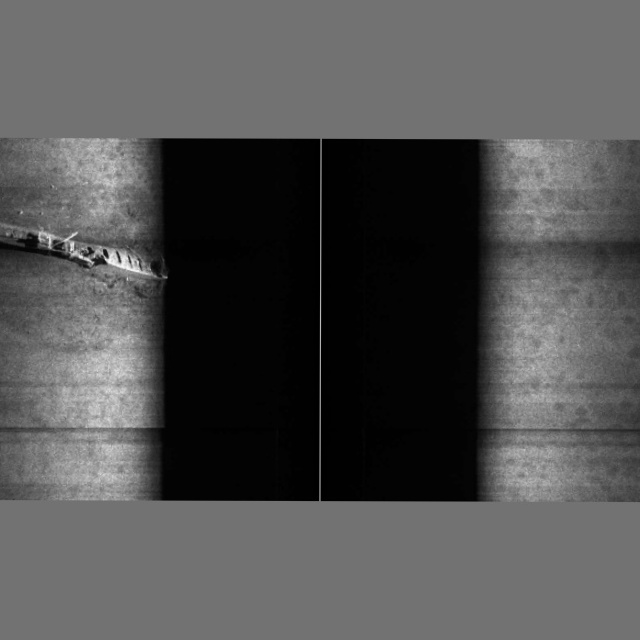Shipwreck: (0, 184, 170, 280)
